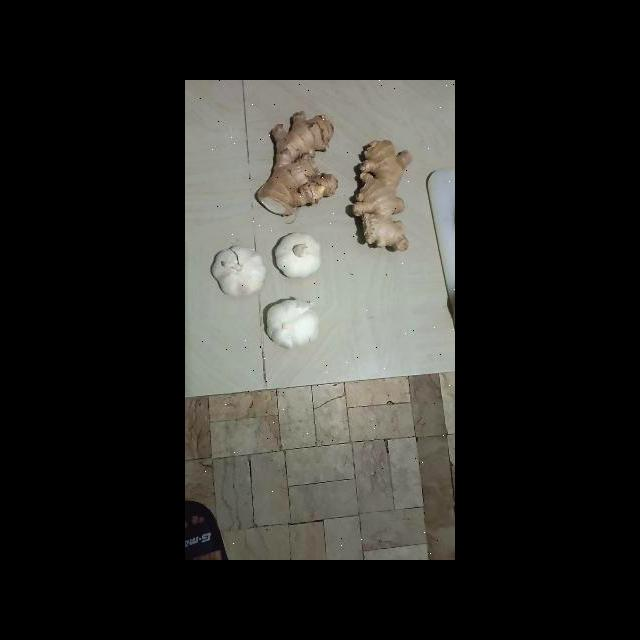garlic: (263, 295, 319, 350), (214, 240, 265, 297), (270, 230, 325, 281)
ginger: (258, 112, 338, 219), (350, 137, 415, 253)
